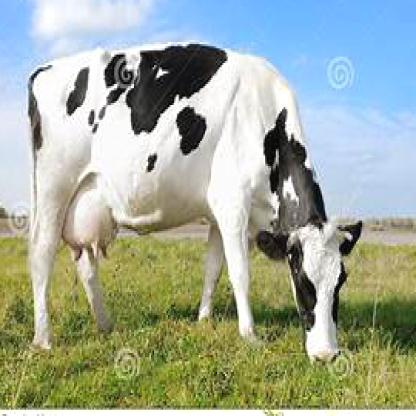cow: (25, 42, 364, 366)
